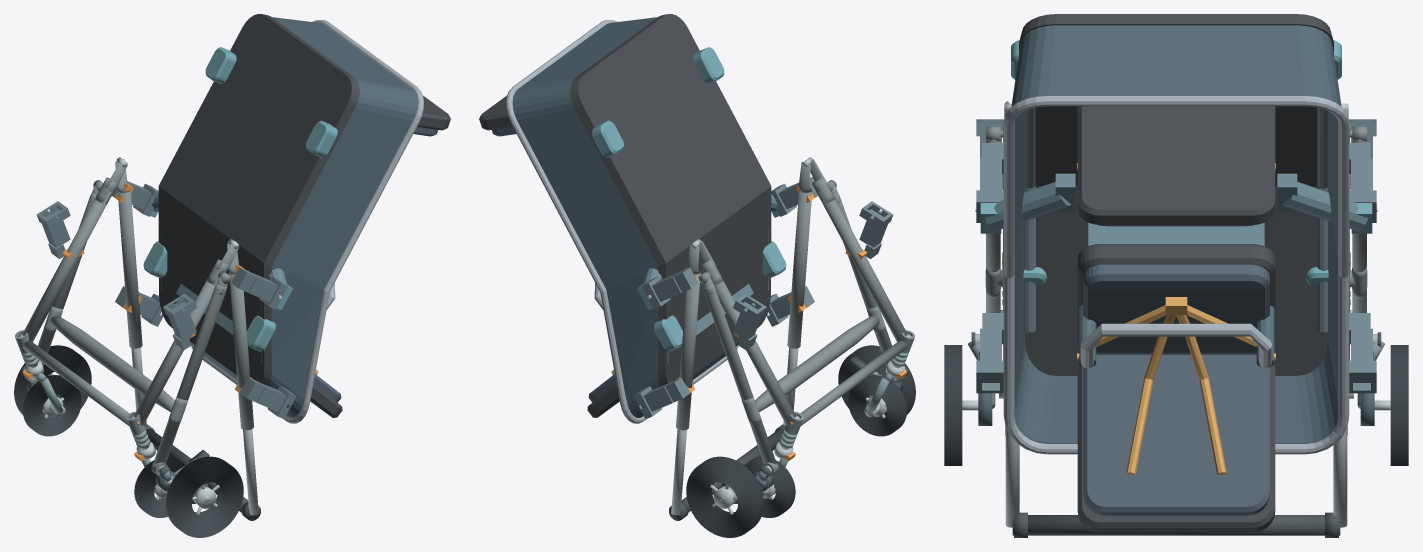
The model's file is S11_w650_state3_wheel_S.glb.
3 views of the same model, side by side, from view 1: azimuth 30°, elevation 25°; view 2: azimuth 150°, elevation 25°; view 3: azimuth 270°, elevation 25° (orthographic). The views are drawn at different scales.
Parts seen in each view (by area): view 1: S11_Cabin, RL_tire.008, FR_tire.008, V46_rearbar.009, main_lower_1.009, main_upper_1.009, V46_rear_leg_-1.009, main_upper_-1.009, main_lower_-1.009, front_fixed_round_tube.008, RR_tire.008, FL_tire.008 (+9 smaller); view 2: S11_Cabin, RR_tire.008, FL_tire.008, V46_rearbar.009, main_lower_-1.009, main_upper_-1.009, V46_rear_leg_1.009, main_upper_1.009, main_lower_1.009, front_fixed_round_tube.008, FR_tire.008, RL_tire.008 (+9 smaller); view 3: S11_Cabin, S11_Cabin_Mount_M, round_handle.008, RL_tire.008, RR_tire.008, Universal_Cabin_Receiver_H_1, Universal_Cabin_Receiver_H_-1, Universal_Cabin_Receiver_M_1, Universal_Cabin_Receiver_M_-1, handle_slider_1.008, handle_slider_-1.008, V46_rear_leg_1.009 (+1 smaller).
Boxes of the visible parts, x1=… form: S11_Cabin: x1=143, y1=14, x2=450, y2=423; RL_tire.008: x1=166, y1=456, x2=243, y2=537; FR_tire.008: x1=23, y1=375, x2=81, y2=436; V46_rearbar.009: x1=50, y1=315, x2=174, y2=411; main_lower_1.009: x1=22, y1=191, x2=111, y2=342; main_upper_1.009: x1=117, y1=191, x2=142, y2=348; V46_rear_leg_-1.009: x1=153, y1=283, x2=227, y2=464; main_upper_-1.009: x1=229, y1=272, x2=253, y2=430; main_lower_-1.009: x1=134, y1=279, x2=218, y2=425; front_fixed_round_tube.008: x1=22, y1=340, x2=129, y2=425; RR_tire.008: x1=14, y1=345, x2=91, y2=416; FL_tire.008: x1=134, y1=456, x2=185, y2=517; S11_Cabin: x1=479, y1=14, x2=786, y2=423; RR_tire.008: x1=686, y1=456, x2=763, y2=537; FL_tire.008: x1=848, y1=375, x2=906, y2=436; V46_rearbar.009: x1=755, y1=315, x2=879, y2=411; main_lower_-1.009: x1=818, y1=191, x2=907, y2=342; main_upper_-1.009: x1=787, y1=191, x2=812, y2=348; V46_rear_leg_1.009: x1=702, y1=283, x2=776, y2=464; main_upper_1.009: x1=676, y1=272, x2=700, y2=430; main_lower_1.009: x1=711, y1=279, x2=795, y2=425; front_fixed_round_tube.008: x1=800, y1=340, x2=907, y2=425; FR_tire.008: x1=744, y1=456, x2=795, y2=517; RL_tire.008: x1=838, y1=345, x2=915, y2=416; S11_Cabin: x1=1003, y1=14, x2=1349, y2=532; S11_Cabin_Mount_M: x1=975, y1=173, x2=1377, y2=233; round_handle.008: x1=1012, y1=515, x2=1340, y2=535; RL_tire.008: x1=944, y1=345, x2=962, y2=465; RR_tire.008: x1=1390, y1=345, x2=1408, y2=465; Universal_Cabin_Receiver_H_1: x1=1349, y1=313, x2=1376, y2=393; Universal_Cabin_Receiver_H_-1: x1=976, y1=313, x2=1003, y2=393; Universal_Cabin_Receiver_M_1: x1=1349, y1=142, x2=1376, y2=222; Universal_Cabin_Receiver_M_-1: x1=976, y1=142, x2=1003, y2=222; handle_slider_1.008: x1=1333, y1=427, x2=1347, y2=527; handle_slider_-1.008: x1=1005, y1=427, x2=1019, y2=527; V46_rear_leg_1.009: x1=1352, y1=142, x2=1366, y2=312.
Bounding box in the file's own units: 0.982 × 1.09 × 0.766.
